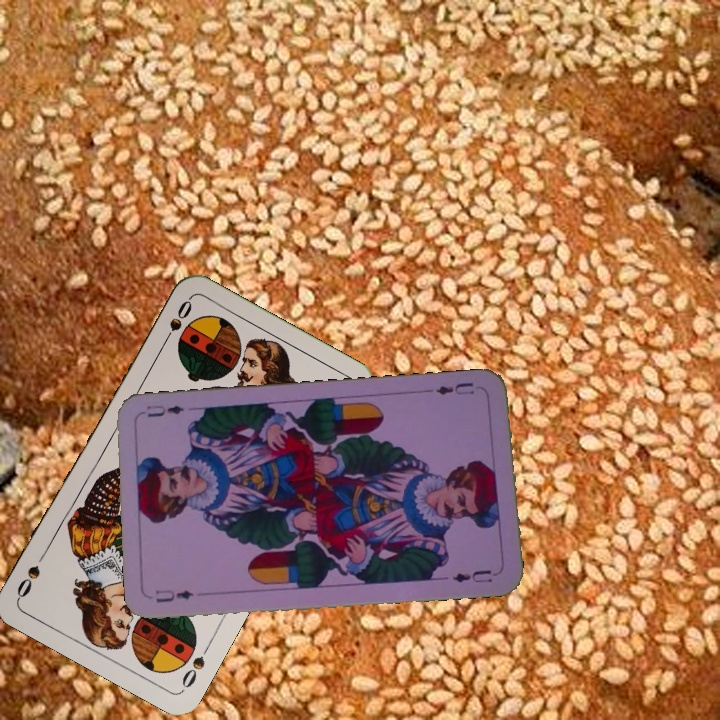EU: (431, 378, 477, 398), (151, 585, 196, 605)
SO: (157, 296, 195, 349), (177, 638, 214, 691)
